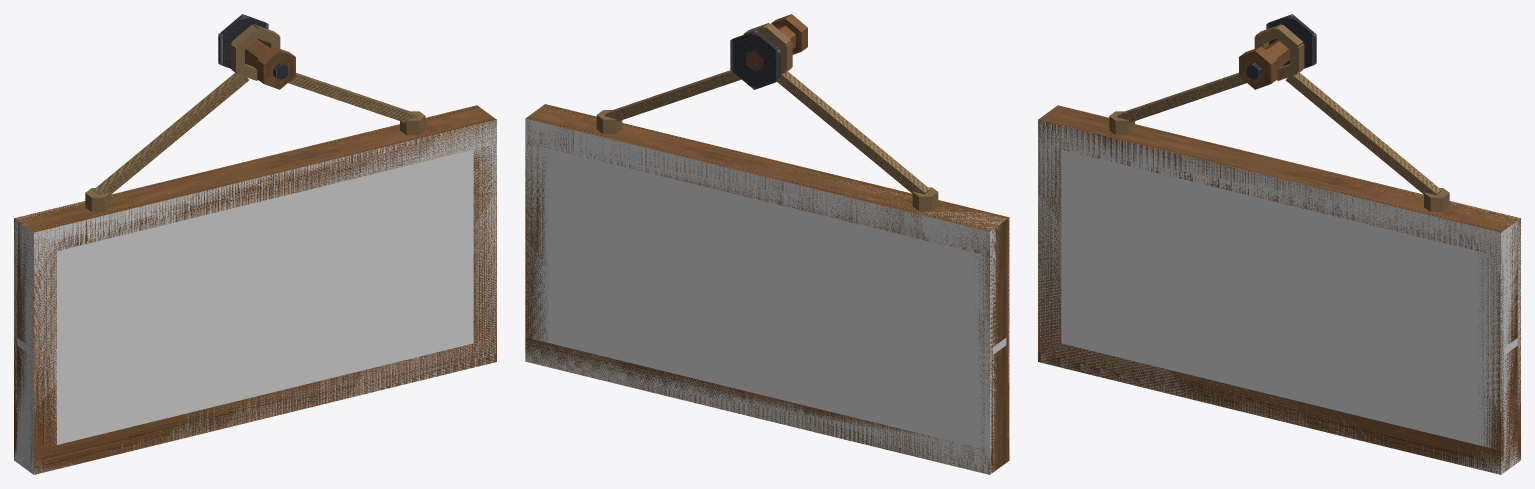
File: sign_text.glb
3 views of the same model, side by side, from view 1: azimuth 30°, elevation 25°; view 2: azimuth 150°, elevation 25°; view 3: azimuth 330°, elevation 25° (orthographic).
Visible parts, largest first — view 1: COL_board, sign_board, sign_text; view 2: COL_board, sign_board, sign_text; view 3: COL_board, sign_board, sign_text.
Part boxes in pixels (box(x1,y1,x2,y2)): COL_board: box(14, 120, 496, 474); sign_board: box(14, 24, 496, 474); sign_text: box(218, 14, 295, 89); COL_board: box(525, 107, 1009, 474); sign_board: box(525, 23, 1009, 474); sign_text: box(730, 14, 807, 89); COL_board: box(1038, 120, 1520, 474); sign_board: box(1038, 24, 1520, 474); sign_text: box(1239, 14, 1316, 89).
Bounding box in the file's own units: 0.5 × 0.4 × 0.075.
Materials: 5 (5 with a texture image).
